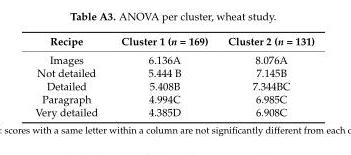table: (34, 34, 314, 118)
table column: (108, 34, 217, 118), (217, 34, 314, 118), (34, 34, 108, 118)
table column header: (34, 34, 314, 50)
table row: (34, 34, 314, 50), (34, 50, 314, 66), (34, 66, 314, 79), (34, 79, 314, 92), (34, 92, 314, 105), (34, 105, 314, 118)
